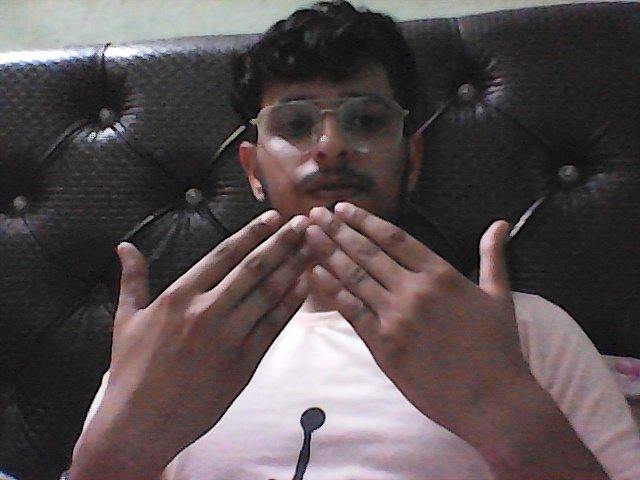thankyou: (83, 184, 575, 464)
